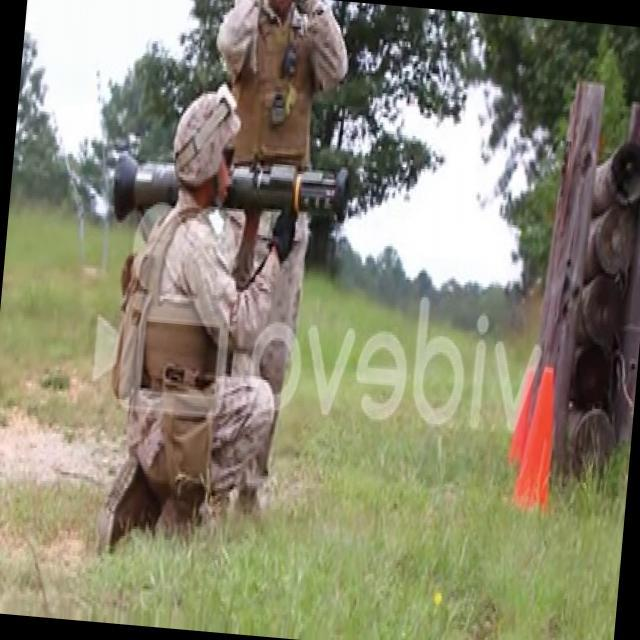rocket: (112, 147, 352, 245)
